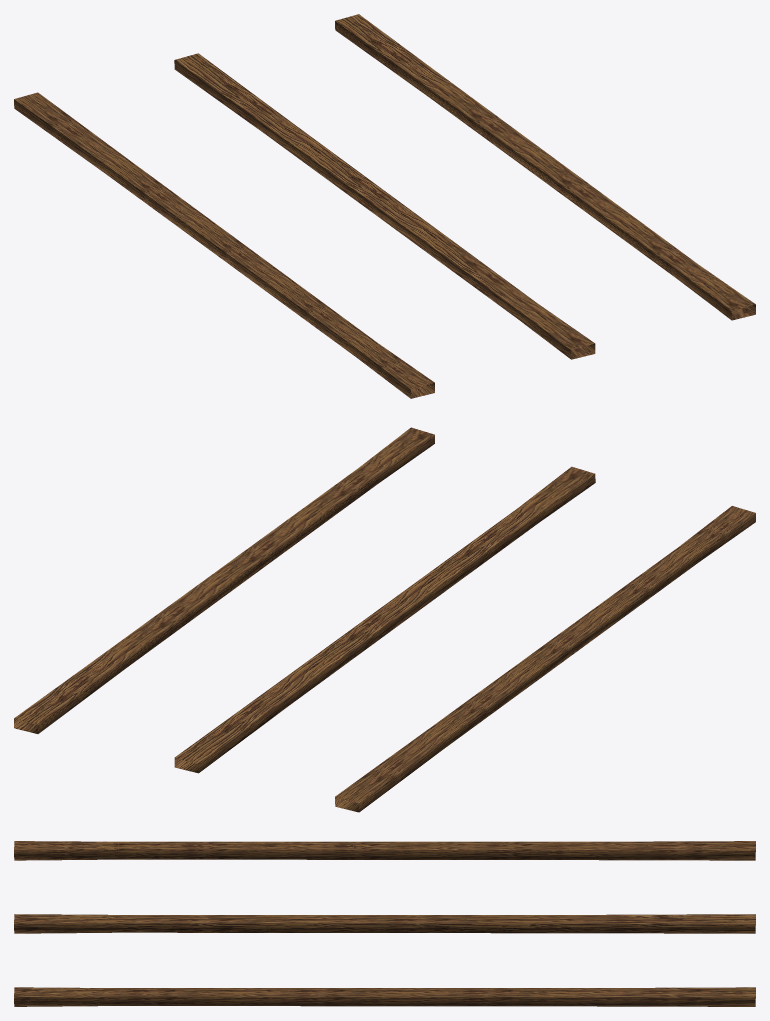
File: LAKETOWN_WAREHOUSE3_PS_WH3_HORZBEAMS939838.fbx
3 renders of one model, top to bottom at view 1: azimuth 30°, elevation 25°; view 2: azimuth 150°, elevation 25°; view 3: azimuth 270°, elevation 25°, orthographic. The views are drawn at different scales.
Visible parts, largest first — view 1: LAKETOWN_WAREHOUSE3_PS_WH3_HORZBEAMS939838; view 2: LAKETOWN_WAREHOUSE3_PS_WH3_HORZBEAMS939838; view 3: LAKETOWN_WAREHOUSE3_PS_WH3_HORZBEAMS939838.
Boxes of the visible parts, x1,y1,x2,y2 form: LAKETOWN_WAREHOUSE3_PS_WH3_HORZBEAMS939838: (14, 14, 755, 398); LAKETOWN_WAREHOUSE3_PS_WH3_HORZBEAMS939838: (14, 427, 755, 812); LAKETOWN_WAREHOUSE3_PS_WH3_HORZBEAMS939838: (14, 841, 755, 1006).
Bounding box in the file's own units: 82682 × 2393 × 164845.
Materials: 1 (1 with a texture image).
